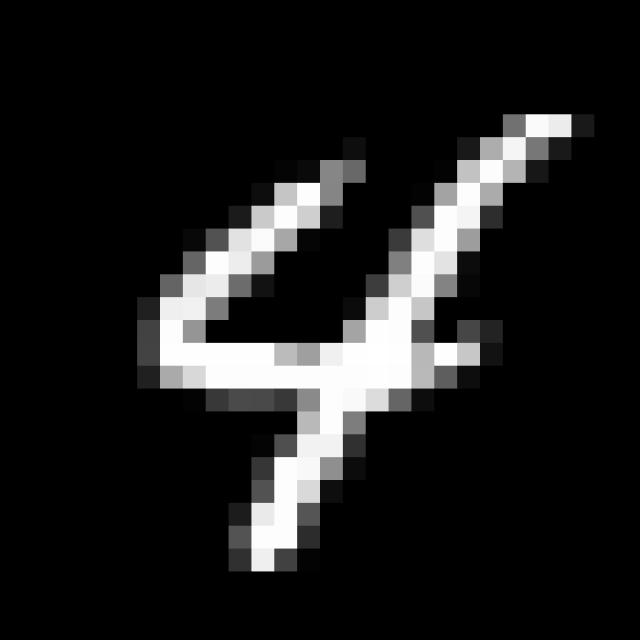four -4-: (128, 89, 587, 584)
